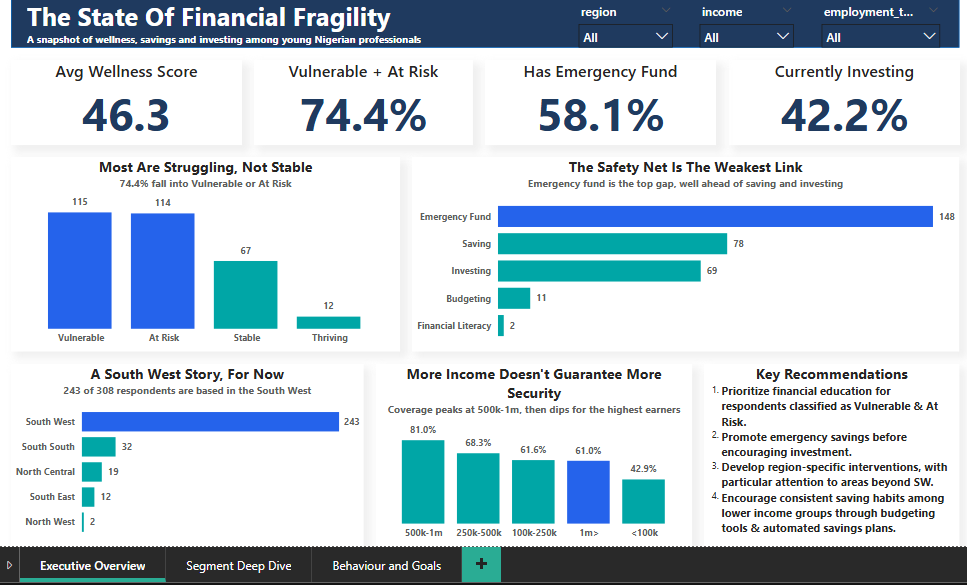

The dashboard page shown, as its layout file describes it:
{"tool":"powerbi","page":{"name":"Executive Overview","canvas":[1280,720],"ordinal":0},"visuals":[{"type":"shape","box":[16,0,1248,64],"z":0},{"type":"card","title":"Avg Wellness Score","fields":{"Values":["survey_responses.Avg Wellness Score"]},"box":[16,80,304,112],"z":1000},{"type":"card","title":"Vulnerable + At Risk","fields":{"Values":["survey_responses.% Vulnerable+AtRisk"]},"box":[336,80,288,112],"z":2000},{"type":"card","title":"Currently Investing","fields":{"Values":["survey_responses.Currently Investing"]},"box":[960,80,304,112],"z":3000},{"type":"card","title":"Has Emergency Fund","fields":{"Values":["survey_responses.% Has Emergency Fund"]},"box":[640,80,304,112],"z":4000},{"type":"columnChart","title":"Most Are Struggling, Not Stable","fields":{"Category":["survey_responses.category"],"Y":["survey_responses.Total Respondents"]},"box":[16,208,512,256],"z":5000},{"type":"barChart","title":"The Safety Net Is The Weakest Link","fields":{"Category":["survey_responses.lowest_area"],"Y":["survey_responses.Total Respondents"]},"box":[544,208,720,256],"z":6000},{"type":"barChart","title":"A South West Story, For Now","fields":{"Category":["survey_responses.region"],"Y":["survey_responses.Total Respondents"]},"box":[16,480,464,240],"z":7000},{"type":"columnChart","title":"More Income Doesn''t Guarantee More Security","fields":{"Category":["survey_responses.income"],"Y":["survey_responses.% Has Emergency Fund"]},"box":[496,480,416,240],"z":8000},{"type":"textbox","title":"Key Recommendations","box":[928,480,336,240],"z":9000},{"type":"slicer","fields":{"Values":["survey_responses.region"]},"box":[752,0,144,64],"z":10000},{"type":"slicer","fields":{"Values":["survey_responses.income"]},"box":[912,0,144,64],"z":11000},{"type":"slicer","fields":{"Values":["survey_responses.employment_type"]},"box":[1072,0,176,64],"z":12000},{"type":"textbox","title":"The State Of Financial Fragility","box":[32,0,672,64],"z":14000}]}

Visuals, with their boxes on the page's 1280x720 design canvas (x1, y1, x2, y2). These are canvas units, not pixel positions in the 967x585 screenshot, which may show the page scaled, cropped or inside an application window:
shape: (left=16, top=0, right=1264, bottom=64)
"Avg Wellness Score" card: (left=16, top=80, right=320, bottom=192)
"Vulnerable + At Risk" card: (left=336, top=80, right=624, bottom=192)
"Currently Investing" card: (left=960, top=80, right=1264, bottom=192)
"Has Emergency Fund" card: (left=640, top=80, right=944, bottom=192)
"Most Are Struggling, Not Stable" columnChart: (left=16, top=208, right=528, bottom=464)
"The Safety Net Is The Weakest Link" barChart: (left=544, top=208, right=1264, bottom=464)
"A South West Story, For Now" barChart: (left=16, top=480, right=480, bottom=720)
"More Income Doesn''t Guarantee More Security" columnChart: (left=496, top=480, right=912, bottom=720)
"Key Recommendations" textbox: (left=928, top=480, right=1264, bottom=720)
slicer - survey_responses.region: (left=752, top=0, right=896, bottom=64)
slicer - survey_responses.income: (left=912, top=0, right=1056, bottom=64)
slicer - survey_responses.employment_type: (left=1072, top=0, right=1248, bottom=64)
"The State Of Financial Fragility" textbox: (left=32, top=0, right=704, bottom=64)
